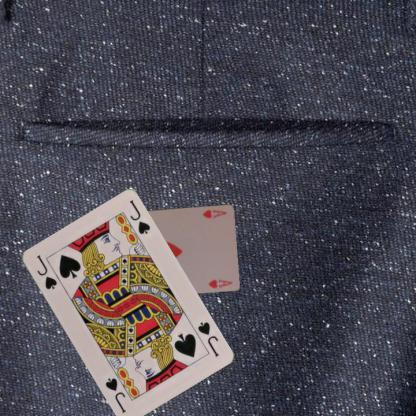Ah: (199, 207, 228, 220)
Js: (33, 252, 58, 291), (195, 319, 220, 358)
